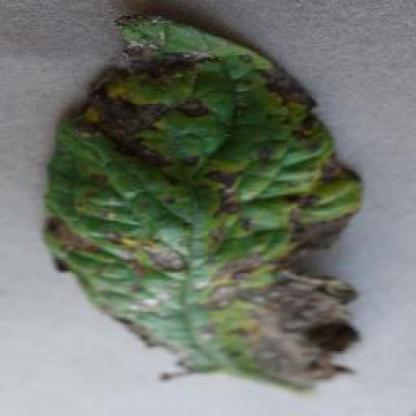Tomato_Blight: (44, 16, 364, 383)
